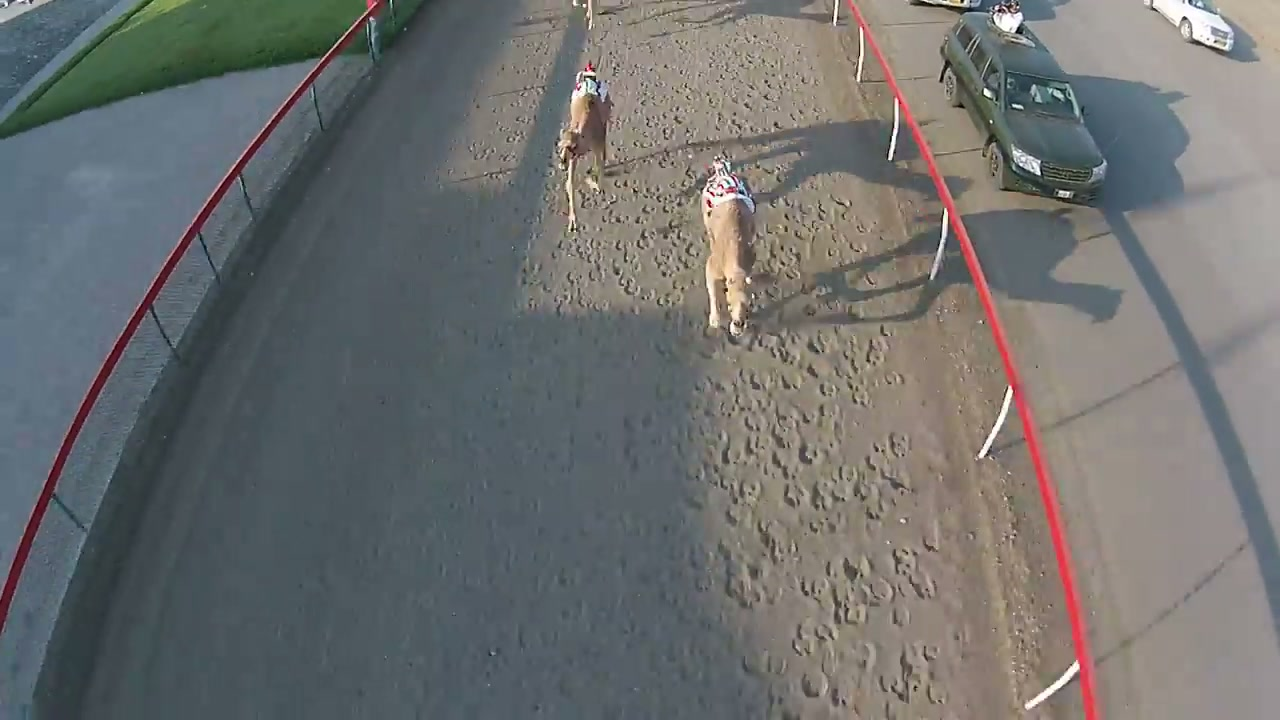animal_footprint: (529, 177, 946, 702), (633, 98, 848, 344)
